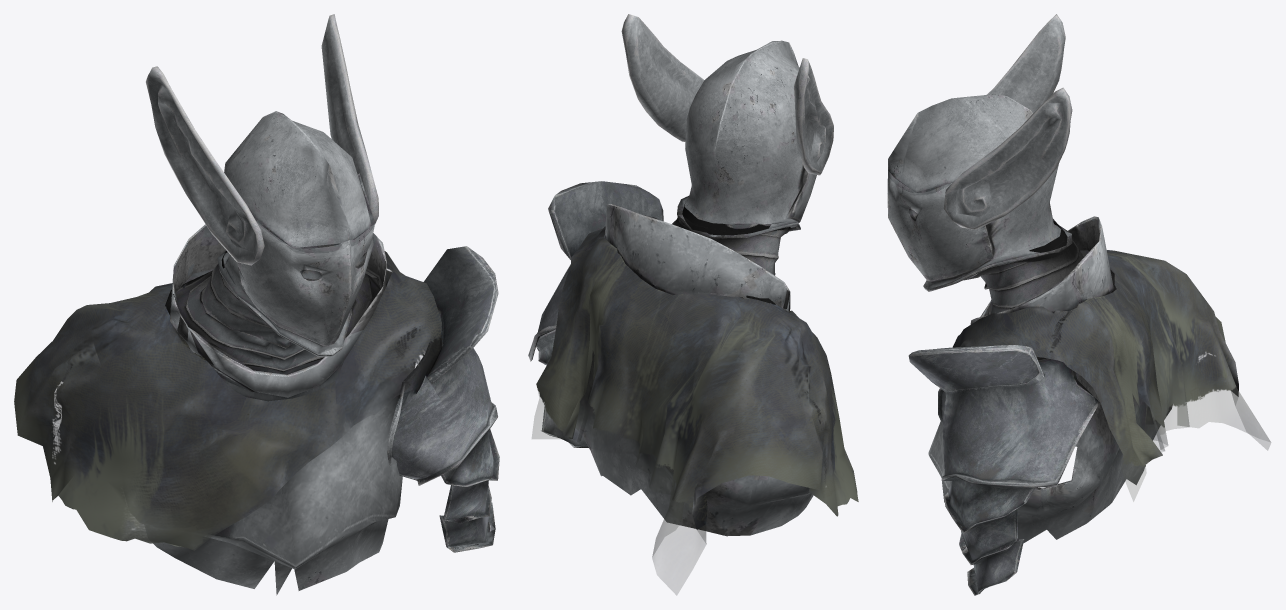
File: domca.glb
3 renders of one model, left to right at view 1: azimuth 30°, elevation 25°; view 2: azimuth 150°, elevation 25°; view 3: azimuth 270°, elevation 25°, orthographic. The views are drawn at different scales.
Visible parts, largest first — view 1: Male_body_reference.001; view 2: Male_body_reference.001; view 3: Male_body_reference.001.
Part boxes in pixels (x1,y1,x2,y2): Male_body_reference.001: (14,14,499,595); Male_body_reference.001: (528,14,858,595); Male_body_reference.001: (887,14,1270,595).
Bounding box in the file's own units: 0.9275 × 1.2 × 0.9059.
Materials: 6 (6 with a texture image).
